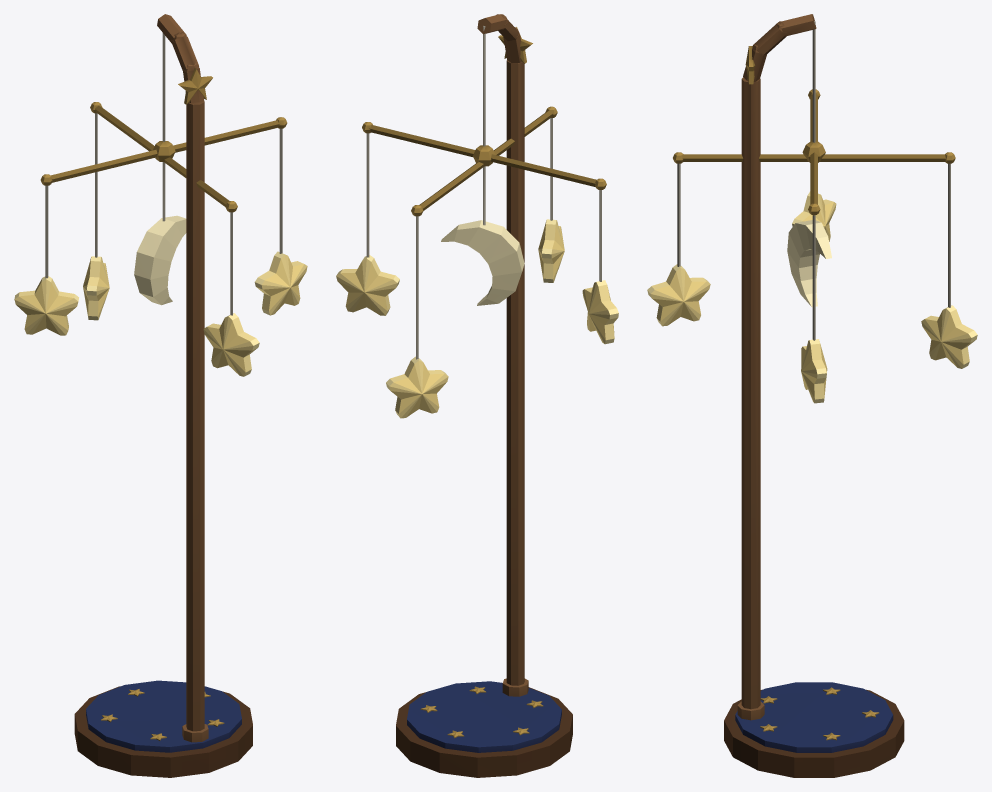
File: star_mobile_low.glb
3 views of the same model, side by side, from view 1: azimuth 30°, elevation 25°; view 2: azimuth 150°, elevation 25°; view 3: azimuth 270°, elevation 25° (orthographic).
Size of the model in its own units: 0.7367 by 1.78 by 0.733.
